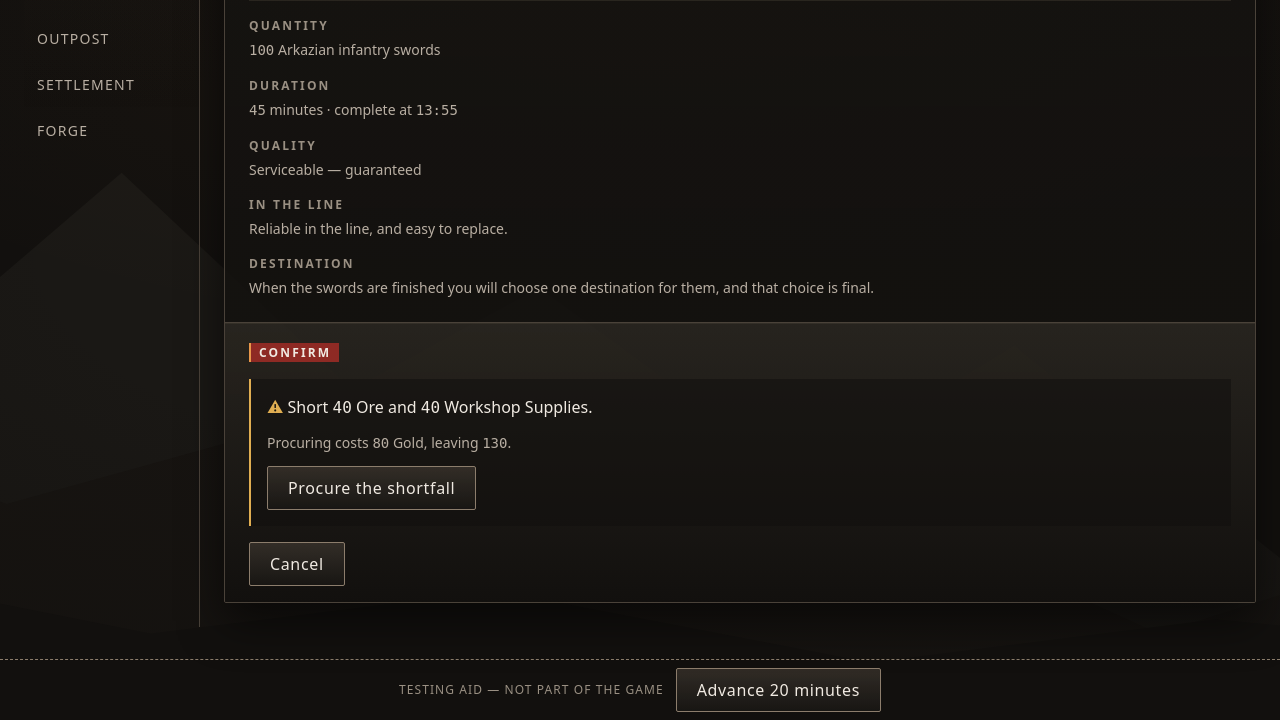
Test: The forge — committing › returns to the forge on cancel, having spent nothing
(page scrolled)
Click the button "Cancel" at (297, 564), box [249,542,345,586]
(page scrolled)
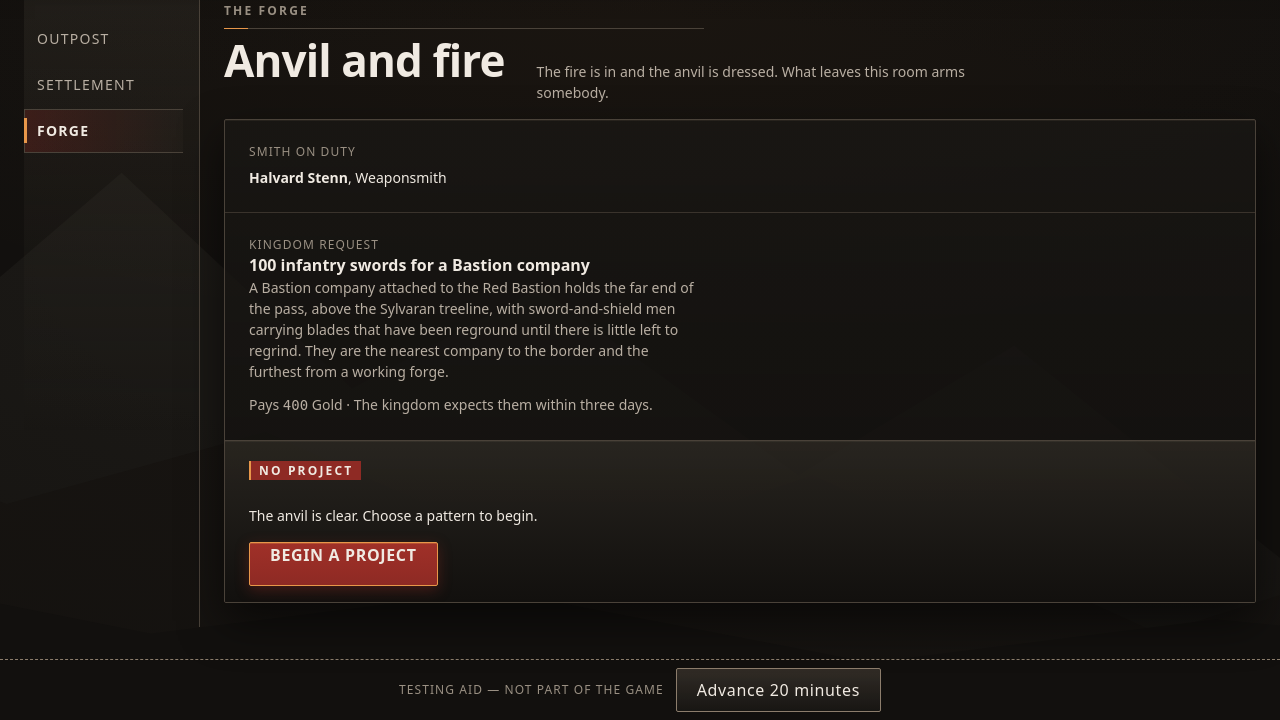
Expected: the element "Kingdom request" is shown, [225,212,1255,440]
